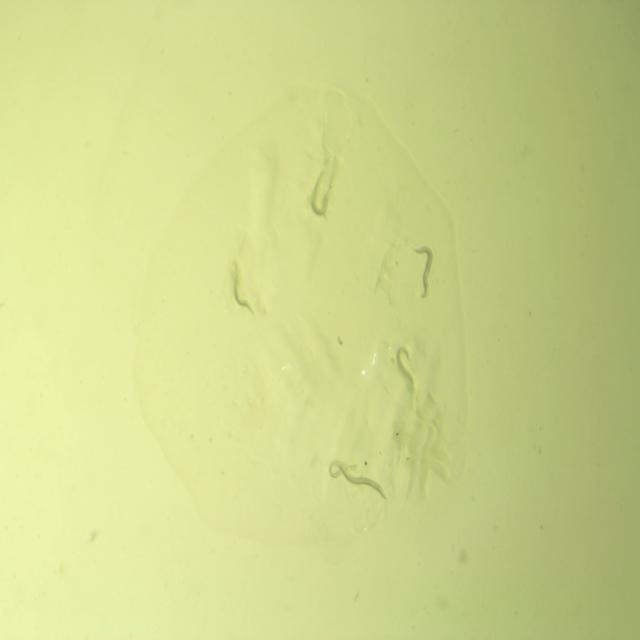worm: (334, 462, 389, 502), (228, 258, 256, 321), (411, 243, 436, 303), (306, 170, 331, 221), (392, 342, 418, 391), (326, 460, 362, 483)
